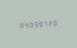four: (22, 21, 26, 28)
seven: (42, 19, 46, 27)
three: (32, 20, 36, 28)
two: (47, 19, 51, 27)
zero: (17, 21, 21, 29), (27, 20, 31, 28), (37, 20, 41, 27), (52, 19, 56, 26)
